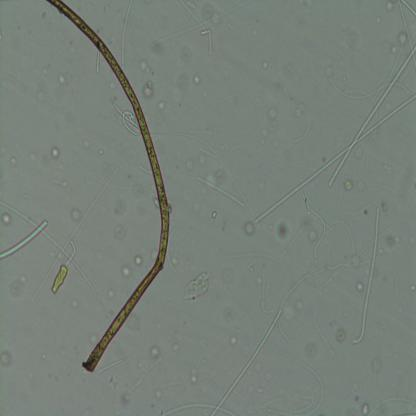Background material: (183, 270, 213, 302), (50, 263, 69, 297), (7, 272, 28, 298), (262, 106, 278, 139), (382, 230, 401, 250), (275, 222, 292, 244), (136, 57, 151, 74), (0, 349, 12, 370), (188, 366, 200, 385), (142, 81, 154, 100), (370, 358, 384, 374), (121, 388, 131, 410), (341, 178, 354, 194), (354, 280, 367, 296), (183, 156, 195, 173), (148, 345, 161, 360), (115, 224, 126, 241), (386, 42, 399, 56), (156, 98, 168, 113), (48, 146, 60, 161), (120, 264, 132, 279), (335, 327, 347, 342), (191, 72, 202, 88), (0, 212, 12, 226), (244, 220, 255, 235), (106, 287, 117, 301), (132, 255, 144, 267), (308, 229, 319, 242), (70, 208, 81, 221), (229, 333, 239, 347), (8, 155, 18, 169), (57, 74, 67, 88), (154, 387, 164, 401), (384, 0, 395, 11), (362, 402, 369, 416), (90, 333, 98, 345), (172, 342, 180, 353), (261, 61, 270, 70), (100, 148, 108, 158), (410, 282, 416, 293), (212, 211, 216, 218)
Glass filter fibre: (255, 94, 416, 225), (0, 200, 110, 323), (327, 42, 416, 188), (31, 166, 119, 303), (212, 309, 282, 416), (277, 221, 336, 343), (151, 1, 243, 48), (352, 206, 380, 346), (283, 358, 325, 414), (300, 188, 328, 260), (0, 220, 47, 260), (196, 176, 246, 209), (109, 98, 141, 137), (397, 1, 416, 66), (114, 335, 136, 385), (121, 0, 135, 70), (368, 396, 416, 415), (165, 402, 234, 415), (258, 273, 275, 316), (174, 0, 200, 27), (166, 228, 179, 274), (99, 357, 128, 375), (292, 120, 312, 144), (200, 27, 214, 57), (63, 240, 77, 267), (198, 144, 218, 162), (401, 0, 416, 18), (138, 164, 153, 178), (95, 51, 101, 74)
Microfibre: (47, 0, 170, 373)
